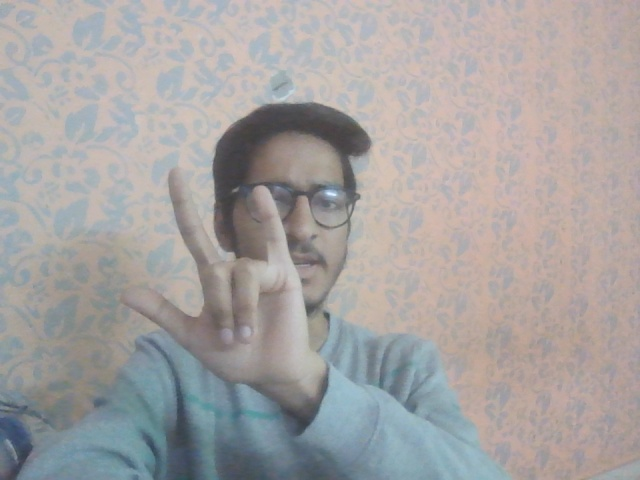ILoveYou: (117, 161, 318, 395)
